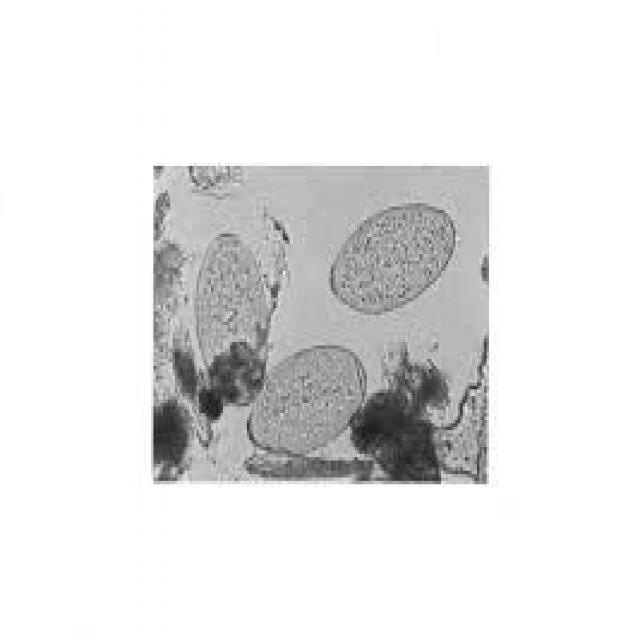Fasciola Hepatica: (323, 196, 458, 318), (245, 338, 372, 461), (192, 232, 271, 405)
